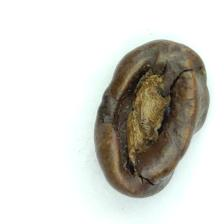NG: (105, 57, 181, 183)
